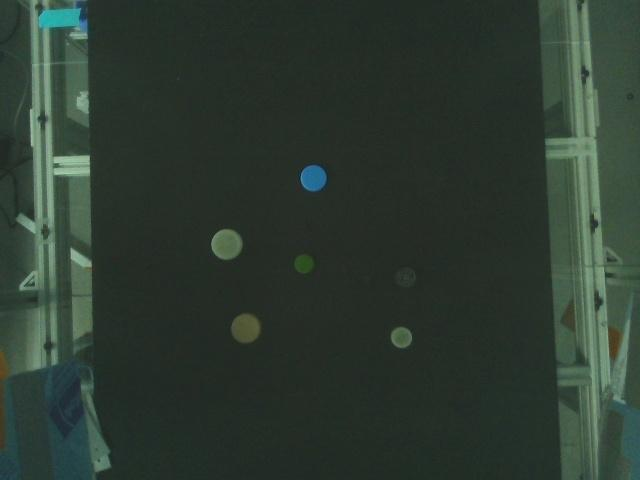plastic: (209, 226, 245, 263), (229, 311, 264, 345), (299, 163, 329, 194), (390, 263, 421, 292), (388, 324, 414, 350), (291, 251, 318, 276)
